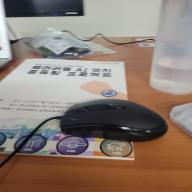Mouse: (58, 97, 169, 143)
